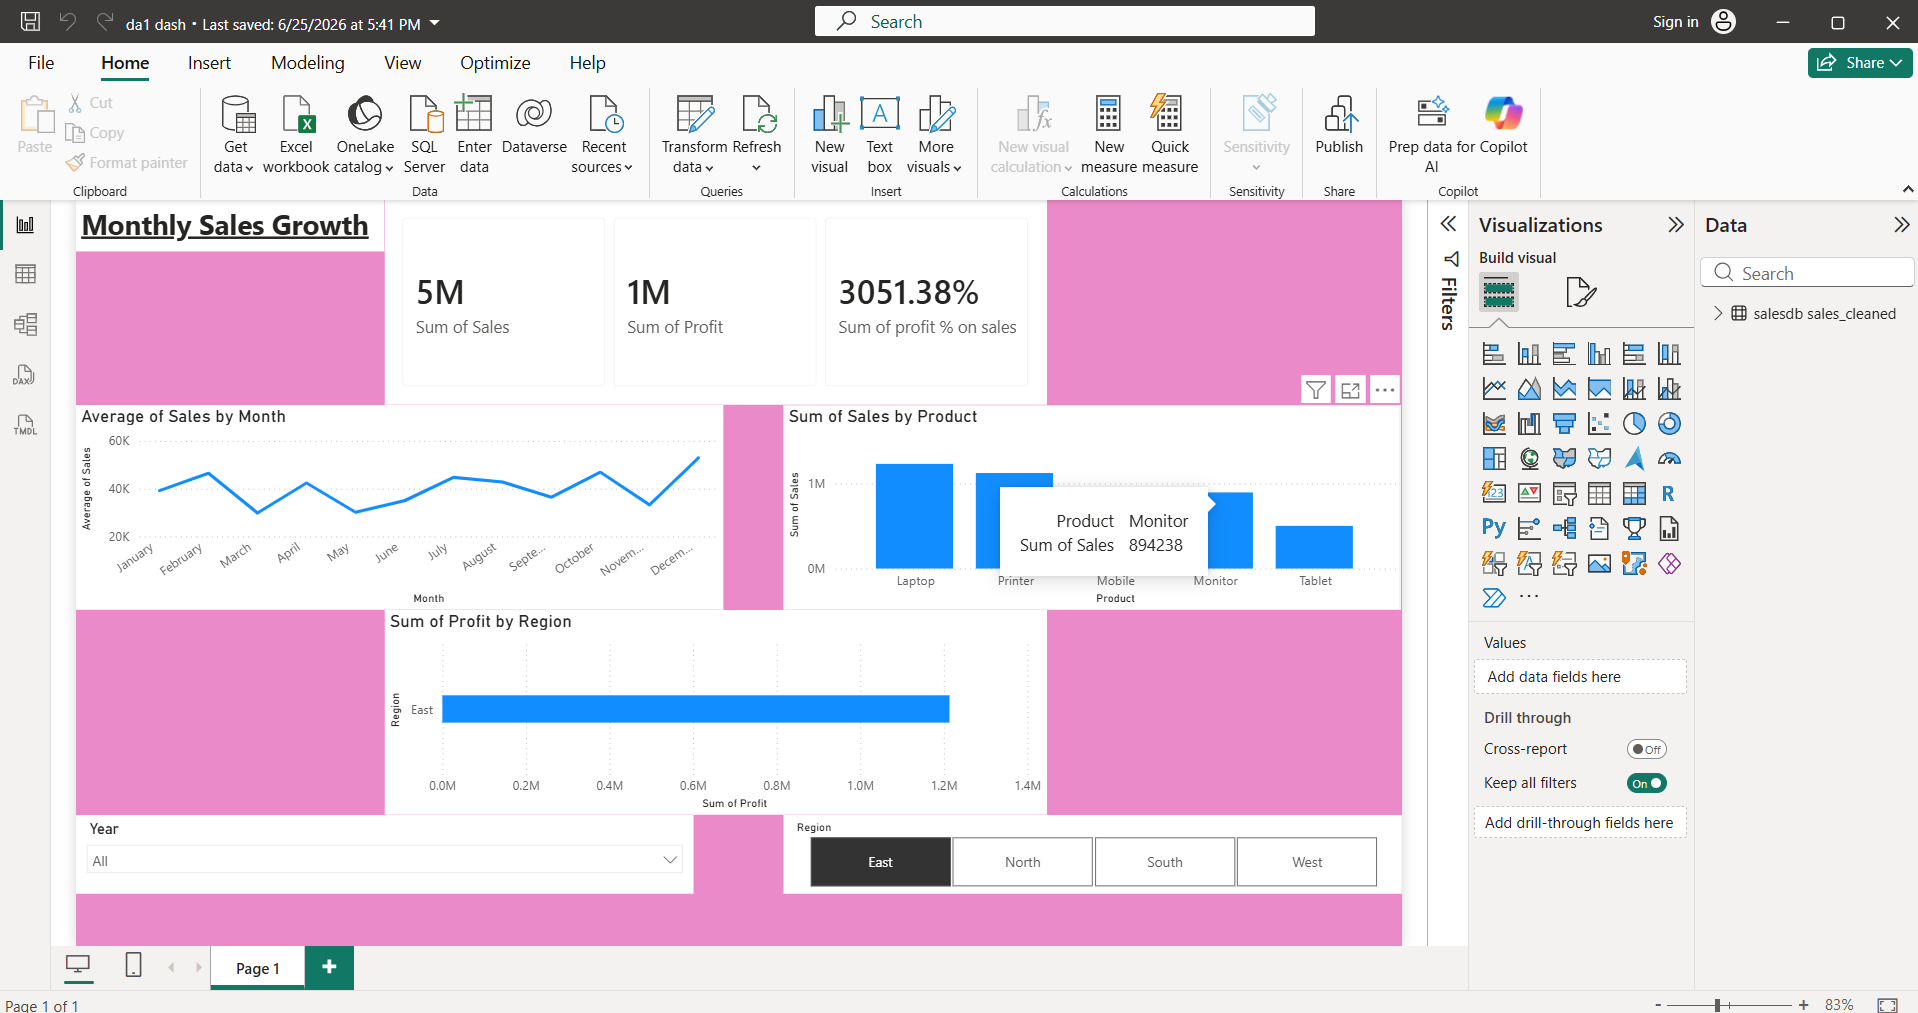

This screenshot's page, from the dashboard's own definition file:
{"tool":"powerbi","page":{"name":"Page 1","canvas":[1280,720],"ordinal":0},"visuals":[{"type":"cardVisual","fields":{"Data":["Sum(salesdb sales_cleaned.Sales)","Sum(salesdb sales_cleaned.Profit)","Sum(salesdb sales_cleaned.profit % on sales)"]},"box":[298,0,639.4,197.9],"z":0},{"type":"lineChart","fields":{"Y":["Avg(salesdb sales_cleaned.Sales)"],"Category":["salesdb sales_cleaned.Order_Date.Variation.Date Hierarchy.Month"]},"box":[0,197.9,624.9,197.9],"z":1000},{"type":"barChart","fields":{"Category":["salesdb sales_cleaned.Region"],"Y":["Sum(salesdb sales_cleaned.Profit)"]},"box":[298,395.7,639.4,197.9],"z":2000},{"type":"columnChart","fields":{"Category":["salesdb sales_cleaned.Product"],"Y":["Sum(salesdb sales_cleaned.Sales)"]},"box":[682.8,197.9,596,197.9],"z":3000},{"type":"slicer","fields":{"Values":["salesdb sales_cleaned.Year"]},"box":[0,593.6,596,76],"z":4000},{"type":"slicer","fields":{"Values":["salesdb sales_cleaned.Region"]},"box":[682.8,593.6,597.2,76],"z":5000},{"type":"textbox","box":[0,0,298,49.5],"z":5001}]}

Visuals, with their boxes on the page's 1280x720 design canvas (x1, y1, x2, y2). These are canvas units, not pixel positions in the 1918x1013 screenshot, which may show the page scaled, cropped or inside an application window:
cardVisual - Sum(salesdb sales_cleaned.Sales) x Sum(salesdb sales_cleaned.Profit): [x1=298, y1=0, x2=937, y2=198]
lineChart - Avg(salesdb sales_cleaned.Sales) x salesdb sales_cleaned.Order_Date.Variation.Date Hierarchy.Month: [x1=0, y1=198, x2=625, y2=396]
barChart - salesdb sales_cleaned.Region x Sum(salesdb sales_cleaned.Profit): [x1=298, y1=396, x2=937, y2=594]
columnChart - salesdb sales_cleaned.Product x Sum(salesdb sales_cleaned.Sales): [x1=683, y1=198, x2=1279, y2=396]
slicer - salesdb sales_cleaned.Year: [x1=0, y1=594, x2=596, y2=670]
slicer - salesdb sales_cleaned.Region: [x1=683, y1=594, x2=1280, y2=670]
textbox: [x1=0, y1=0, x2=298, y2=50]
